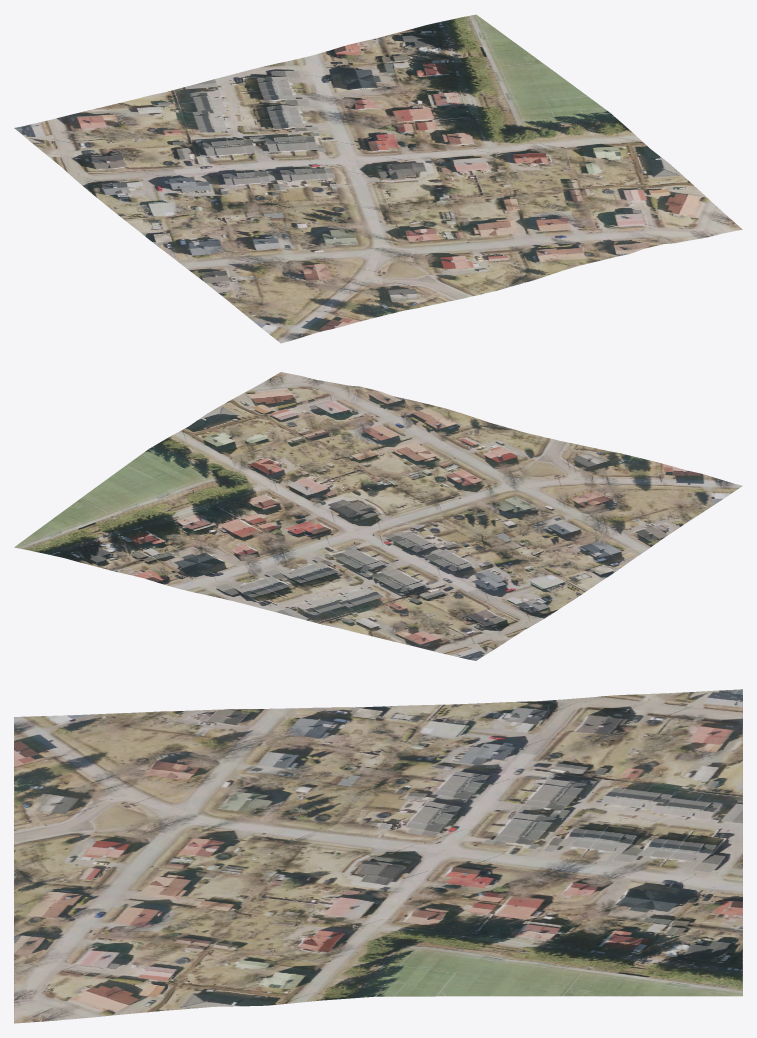
The model's file is CM_Terrain_24491278_6819384.fbx.
The picture shows the model from 3 angles, top to bottom: view 1: azimuth 30°, elevation 25°; view 2: azimuth 150°, elevation 25°; view 3: azimuth 270°, elevation 25°; orthographic projection. The views are drawn at different scales.
Parts seen in each view (by area): view 1: CM_Terrain_24491278_6819384_LOD0; view 2: CM_Terrain_24491278_6819384_LOD0; view 3: CM_Terrain_24491278_6819384_LOD0.
Part boxes in pixels (x1,y1,x2,y2): CM_Terrain_24491278_6819384_LOD0: (14, 14, 742, 343); CM_Terrain_24491278_6819384_LOD0: (14, 372, 742, 660); CM_Terrain_24491278_6819384_LOD0: (14, 689, 742, 1023).
Size of what is drawn, in the model's own units: 205 by 9.57 by 205.
